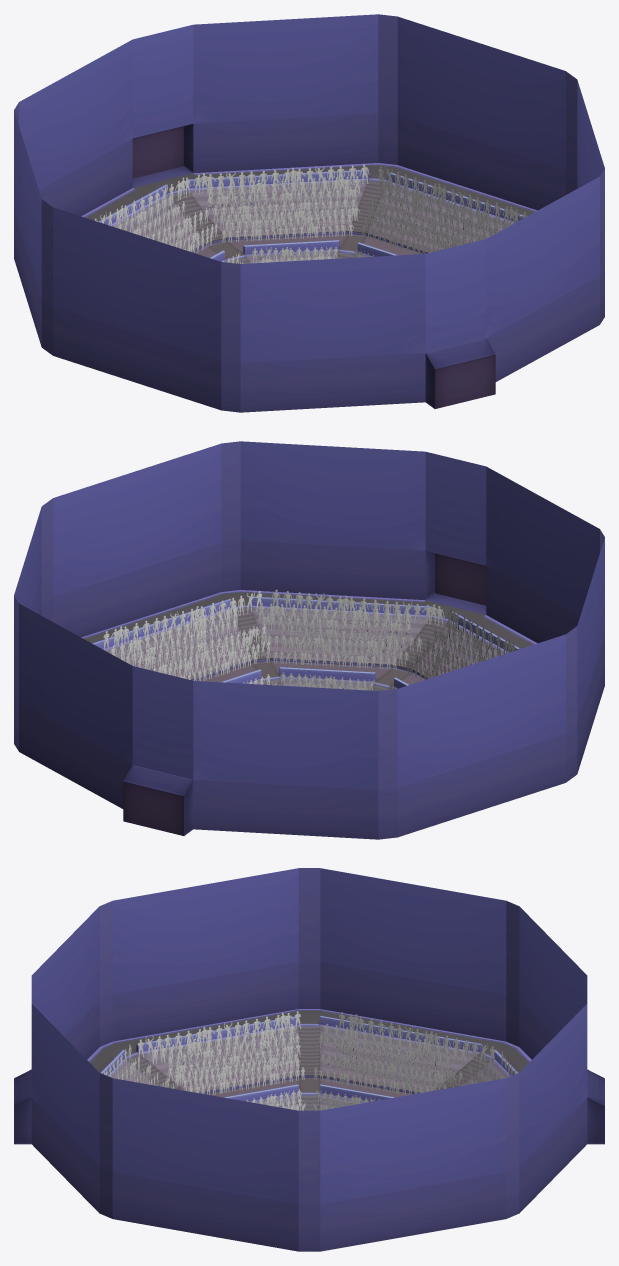
Rendered from stage_new.fbx.
The picture shows the model from 3 angles, top to bottom: view 1: azimuth 30°, elevation 25°; view 2: azimuth 150°, elevation 25°; view 3: azimuth 270°, elevation 25°; orthographic projection. The views are drawn at different scales.
Parts seen in each view (by area): view 1: stage_, crowd.012, crowd.011, crowd.010, crowd.009, crowd.008, crowd.007, crowd.006, crowd.005; view 2: stage_, crowd.012, crowd.011, crowd.010, crowd.009, crowd.007, crowd.008, crowd.006, crowd.005; view 3: stage_, crowd.012, crowd.011, crowd.010, crowd.009, crowd.008, crowd.007, crowd.006, crowd.005.
Boxes of the visible parts, <box> form: stage_: <box>14,14,604,412</box>; crowd.012: <box>95,164,527,227</box>; crowd.011: <box>114,175,508,234</box>; crowd.010: <box>129,186,497,237</box>; crowd.009: <box>144,197,489,242</box>; crowd.008: <box>158,205,470,247</box>; crowd.007: <box>171,212,460,250</box>; crowd.006: <box>182,222,440,254</box>; crowd.005: <box>222,246,374,263</box>; stage_: <box>14,441,604,839</box>; crowd.012: <box>103,589,523,653</box>; crowd.011: <box>110,602,504,661</box>; crowd.010: <box>121,613,489,666</box>; crowd.009: <box>137,623,471,669</box>; crowd.007: <box>157,638,449,676</box>; crowd.008: <box>148,632,460,674</box>; crowd.006: <box>178,649,436,681</box>; crowd.005: <box>243,672,397,690</box>; stage_: <box>14,868,604,1251</box>; crowd.012: <box>102,1011,517,1077</box>; crowd.011: <box>115,1023,503,1080</box>; crowd.010: <box>133,1033,485,1083</box>; crowd.009: <box>147,1042,475,1085</box>; crowd.008: <box>160,1052,458,1087</box>; crowd.007: <box>170,1057,446,1091</box>; crowd.006: <box>182,1067,436,1094</box>; crowd.005: <box>246,1089,379,1106</box>.
Bounding box in the file's own units: 23631 × 8877 × 24329.
